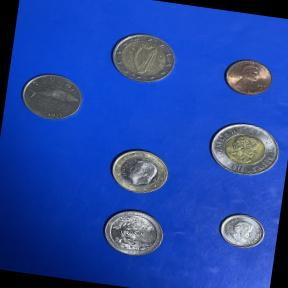1 Euro-B: (100, 141, 178, 206)
2 Euro-B: (103, 27, 183, 89)
Canada-10cent-B: (212, 207, 272, 256)
Canada-2Dollar-B: (197, 113, 287, 186)
Croatia-2Kune-B: (14, 66, 89, 128)
US-1cent-B: (216, 51, 279, 103)
US-25cent-B: (93, 201, 175, 267)
